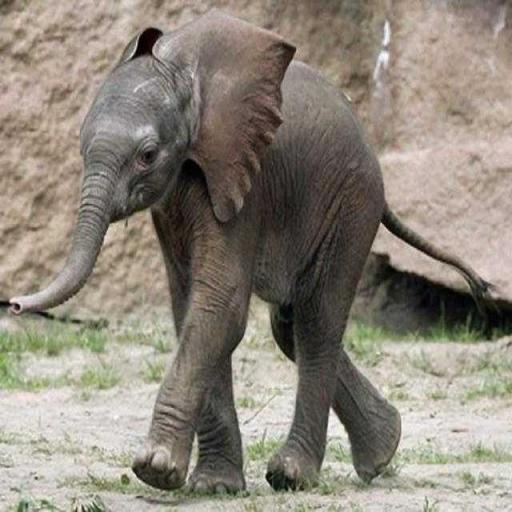Elephant: (8, 7, 501, 496)
